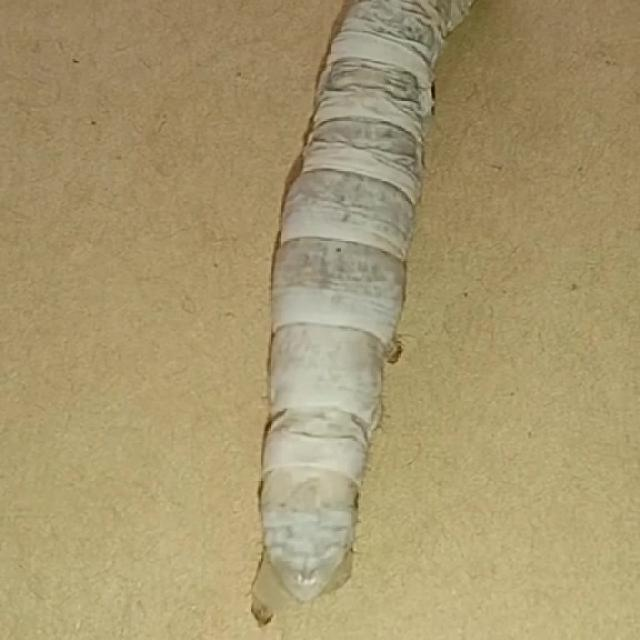Grasserie: (235, 0, 495, 637)
